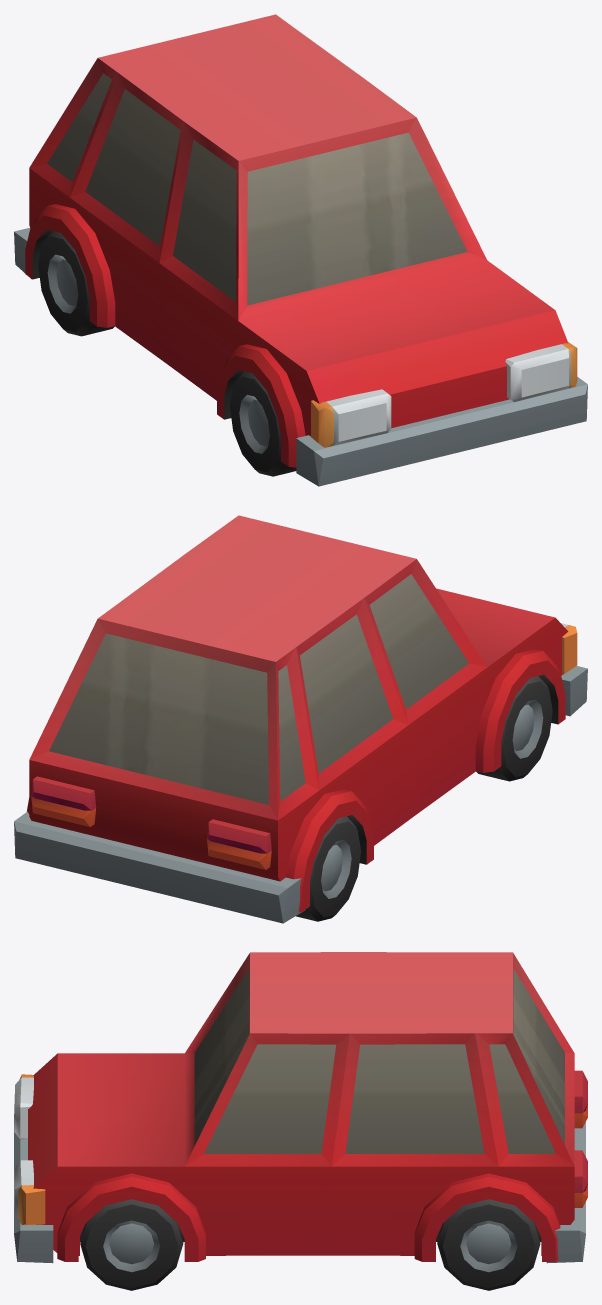
The model's file is t-hatch.glb.
3 renders of one model, top to bottom at view 1: azimuth 30°, elevation 25°; view 2: azimuth 150°, elevation 25°; view 3: azimuth 270°, elevation 25°, orthographic. The views are drawn at different scales.
Visible parts, largest first — view 1: car_hatchback, car_hatchback_wheel_rear_right, car_hatchback_wheel_front_right; view 2: car_hatchback, car_hatchback_wheel_front_right, car_hatchback_wheel_rear_right; view 3: car_hatchback, car_hatchback_wheel_rear_left, car_hatchback_wheel_front_left.
Boxes of the visible parts, x1=… form: car_hatchback: x1=14, y1=14, x2=587, y2=486; car_hatchback_wheel_rear_right: x1=38, y1=231, x2=114, y2=336; car_hatchback_wheel_front_right: x1=230, y1=371, x2=296, y2=476; car_hatchback: x1=14, y1=515, x2=587, y2=923; car_hatchback_wheel_front_right: x1=476, y1=676, x2=552, y2=781; car_hatchback_wheel_rear_right: x1=296, y1=816, x2=361, y2=921; car_hatchback: x1=14, y1=952, x2=587, y2=1263; car_hatchback_wheel_rear_left: x1=437, y1=1199, x2=540, y2=1290; car_hatchback_wheel_front_left: x1=80, y1=1199, x2=183, y2=1290.
Bounding box in the file's own units: 0.4189 × 0.3688 × 0.8061.
1 material, 1 textured.
